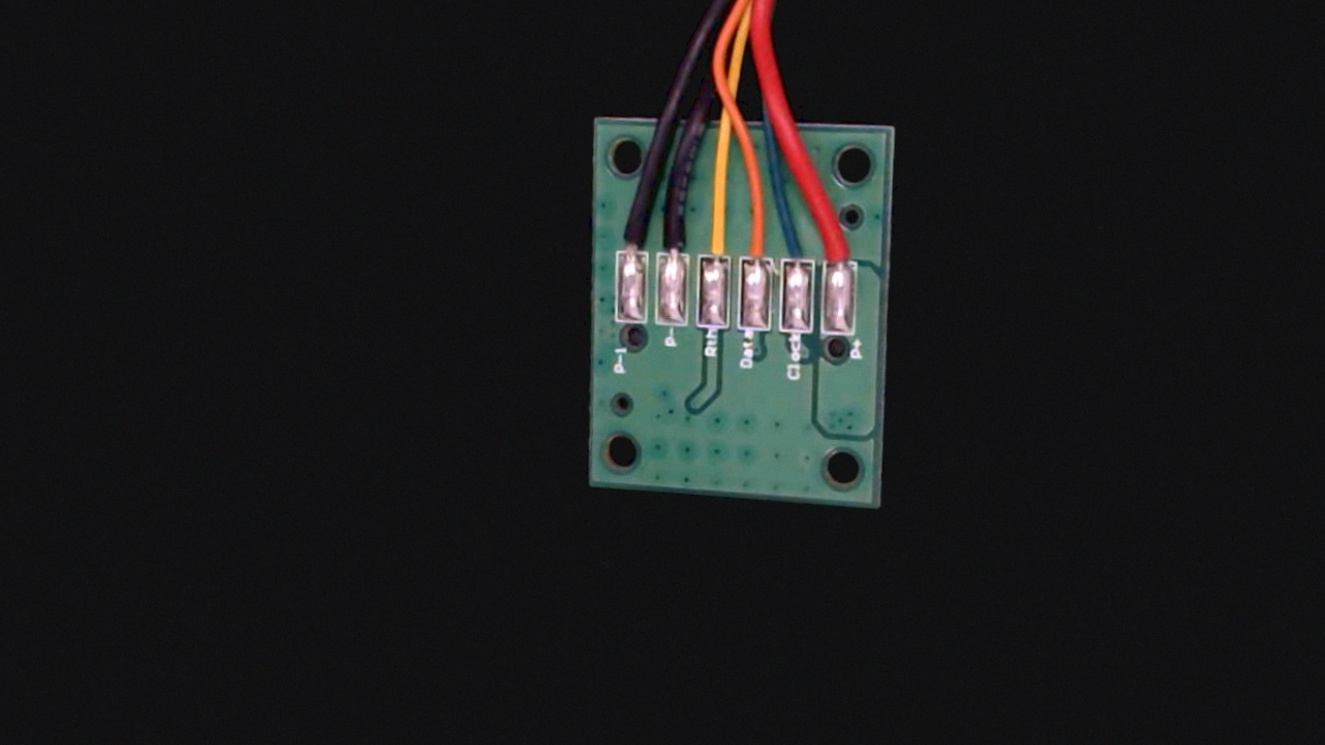Black: (653, 188, 696, 274)
Black1: (610, 190, 652, 271)
Green: (780, 211, 819, 283)
Orange: (737, 194, 778, 280)
Red: (822, 199, 865, 283)
Yellow: (697, 189, 740, 276)
